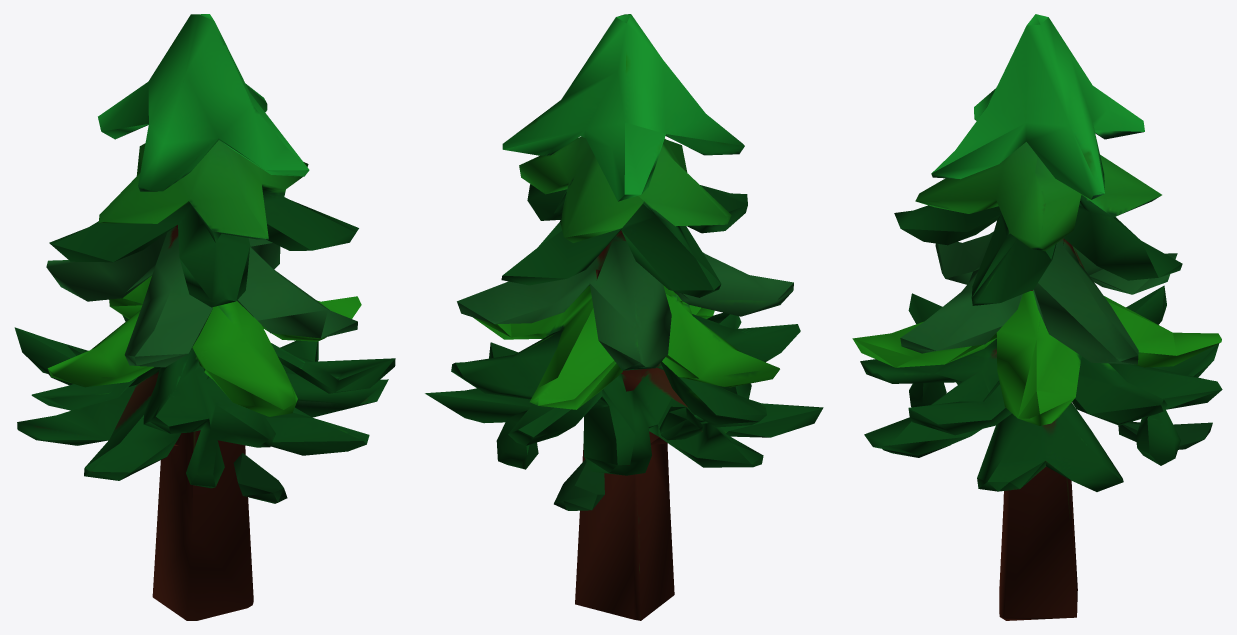
The model's file is scots-pine.glb.
The picture shows the model from 3 angles, left to right: view 1: azimuth 30°, elevation 25°; view 2: azimuth 150°, elevation 25°; view 3: azimuth 270°, elevation 25°; orthographic projection.
Visible parts, largest first — view 1: geometry_0; view 2: geometry_0; view 3: geometry_0.
Part boxes in pixels (x1,y1,x2,y2): geometry_0: (14,14,395,620); geometry_0: (425,14,823,620); geometry_0: (852,14,1222,620).
Bounding box in the file's own units: 0.571 × 0.9987 × 0.5673.
Materials: 1 (1 with a texture image).
